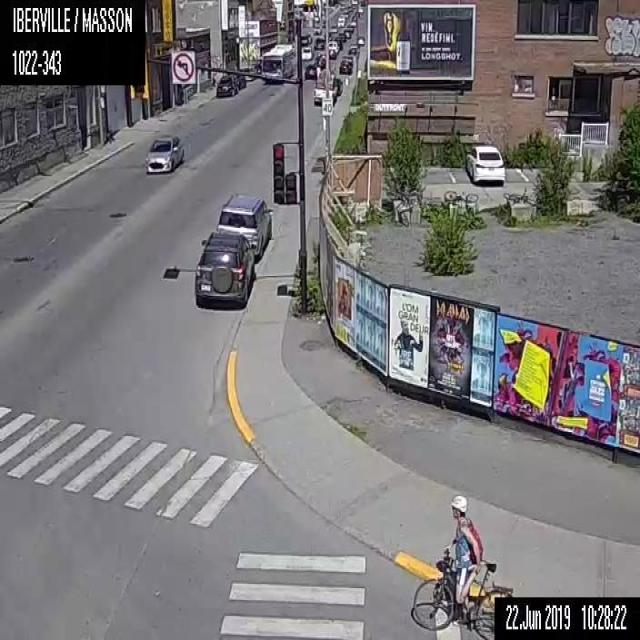bus: (260, 42, 296, 84)
cyclist: (410, 492, 514, 639)
vehicle: (193, 231, 256, 305), (216, 191, 273, 260), (465, 144, 504, 186), (142, 135, 184, 173), (312, 55, 342, 105), (215, 74, 238, 97), (303, 62, 316, 80), (338, 60, 352, 74), (233, 74, 246, 88), (300, 45, 312, 60), (348, 43, 360, 55), (313, 37, 324, 50), (328, 40, 338, 51), (347, 14, 356, 26), (312, 24, 321, 35), (342, 28, 350, 39), (337, 14, 344, 26), (356, 36, 364, 46), (338, 32, 346, 42), (330, 24, 337, 32)
